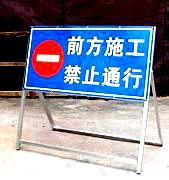sign: (27, 27, 152, 100)
